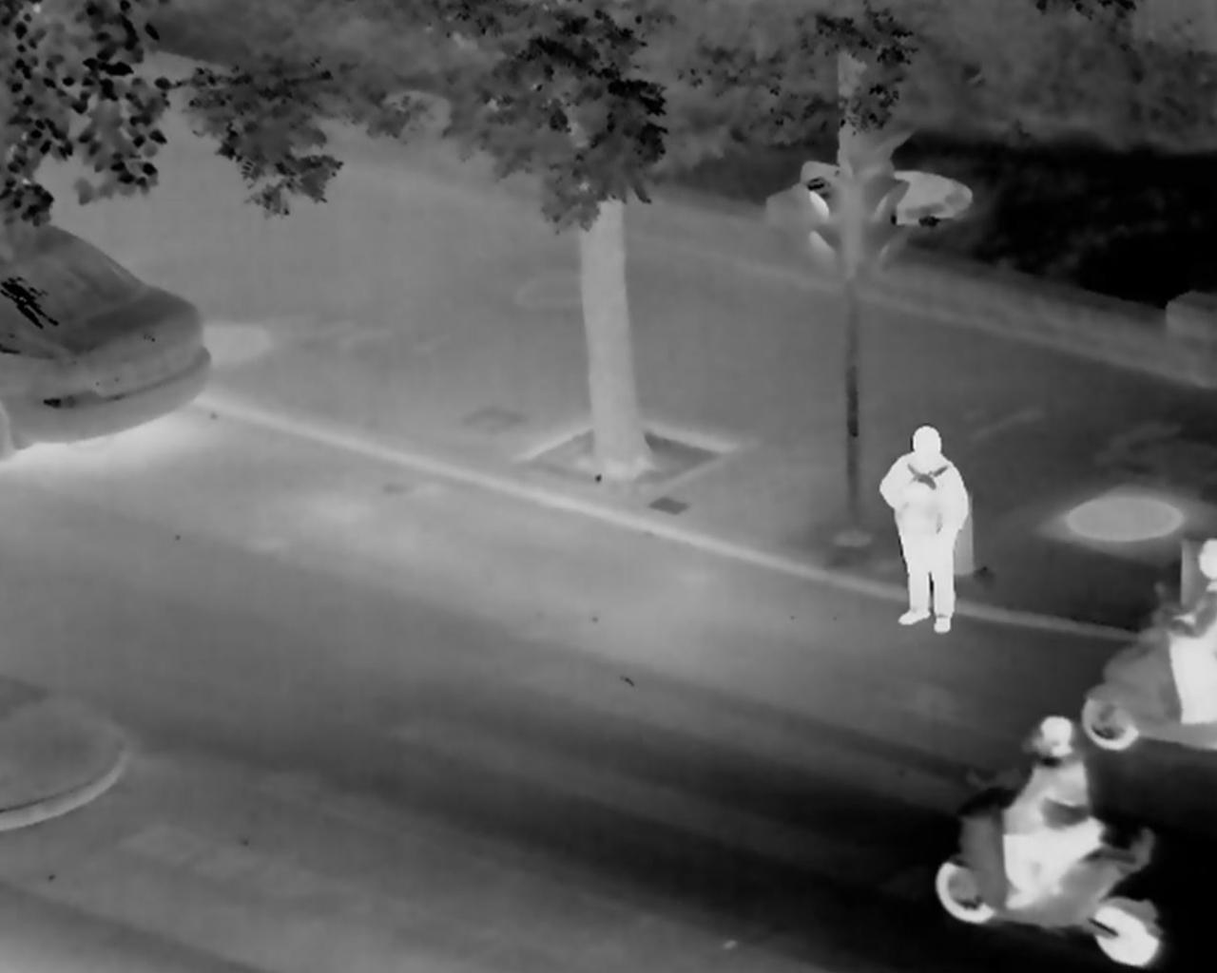person: (988, 713, 1106, 909), (880, 423, 963, 638), (1158, 535, 1215, 733)
